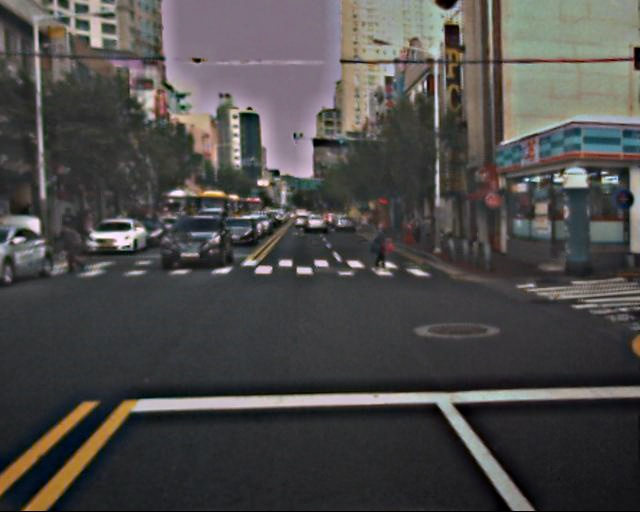person: (366, 220, 398, 279), (57, 218, 89, 273)
